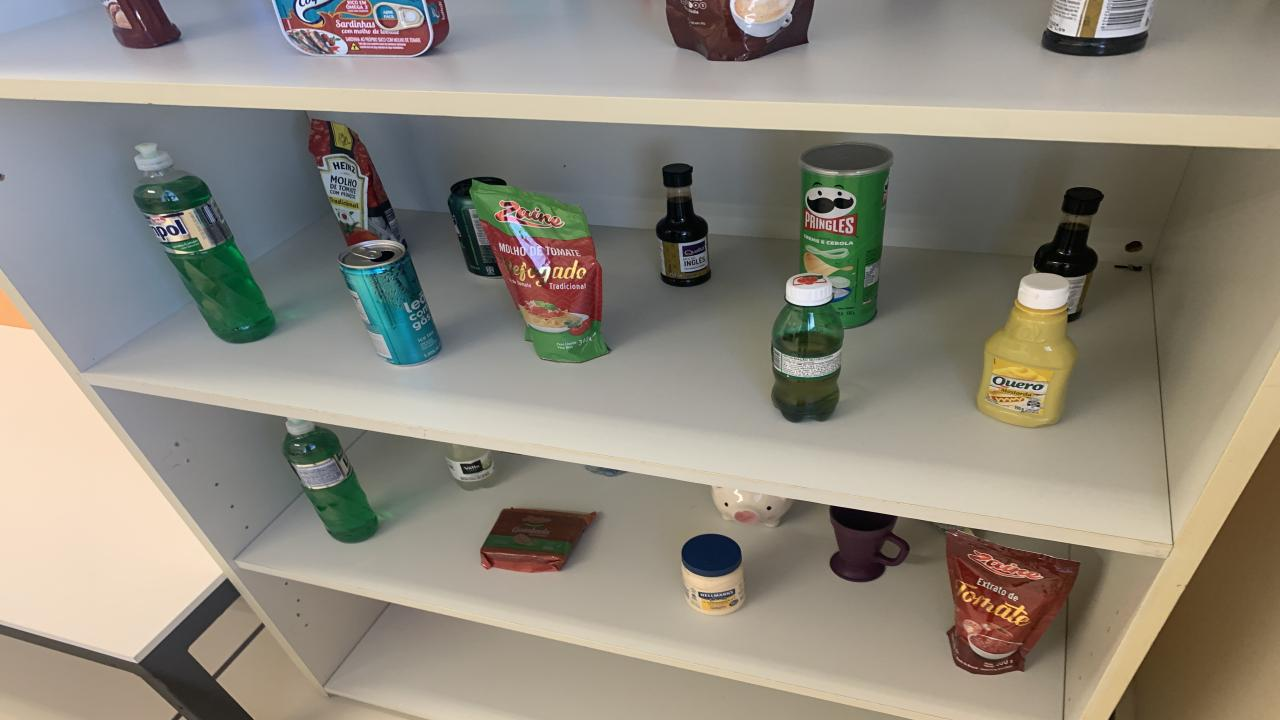Coffee-Pantry_Items: (665, 0, 815, 62)
Detergent-Cleanup_Items: (132, 142, 275, 343), (282, 418, 378, 544)
English_Sauce-Pantry_Items: (1032, 188, 1102, 321), (655, 163, 710, 287), (1042, 0, 1155, 56)
Guarana-Drinks: (772, 274, 842, 422)
Guarana_Can-Drinks: (448, 176, 505, 278)
Guava-Snacks: (480, 508, 595, 572)
Ketchup-Pantry_Items: (102, 0, 180, 49)
Mayonnaise-Pantry_Items: (682, 534, 745, 615)
Mustard-Pantry_Items: (978, 272, 1078, 428)
Pig_Safe-Miscellaneous: (712, 486, 792, 527)
Pringles-Snacks: (800, 142, 892, 328)
Soda-Drinks: (445, 444, 495, 491)
Tea-Drinks: (340, 240, 440, 366)
Tomato_Sauce-Pantry_Items: (470, 182, 610, 362), (945, 531, 1080, 675), (308, 120, 405, 246)
Tuna_Can-Pantry_Items: (272, 0, 448, 56)
